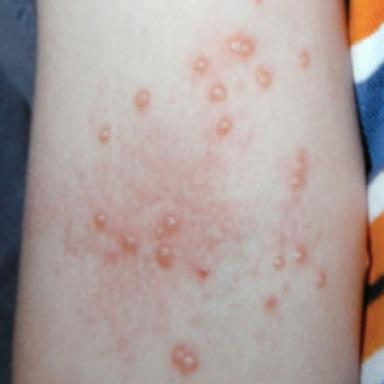Molluscum-Contagiosum: (154, 214, 179, 269), (172, 342, 198, 374), (291, 148, 307, 191), (230, 39, 253, 56), (210, 83, 227, 101), (122, 235, 137, 253), (256, 69, 271, 87), (217, 117, 231, 136), (136, 89, 149, 109), (94, 212, 106, 230), (294, 245, 306, 263), (98, 126, 110, 143), (300, 51, 310, 68), (194, 58, 207, 71), (196, 267, 210, 279), (317, 271, 326, 289), (265, 297, 277, 310), (274, 255, 284, 269)
